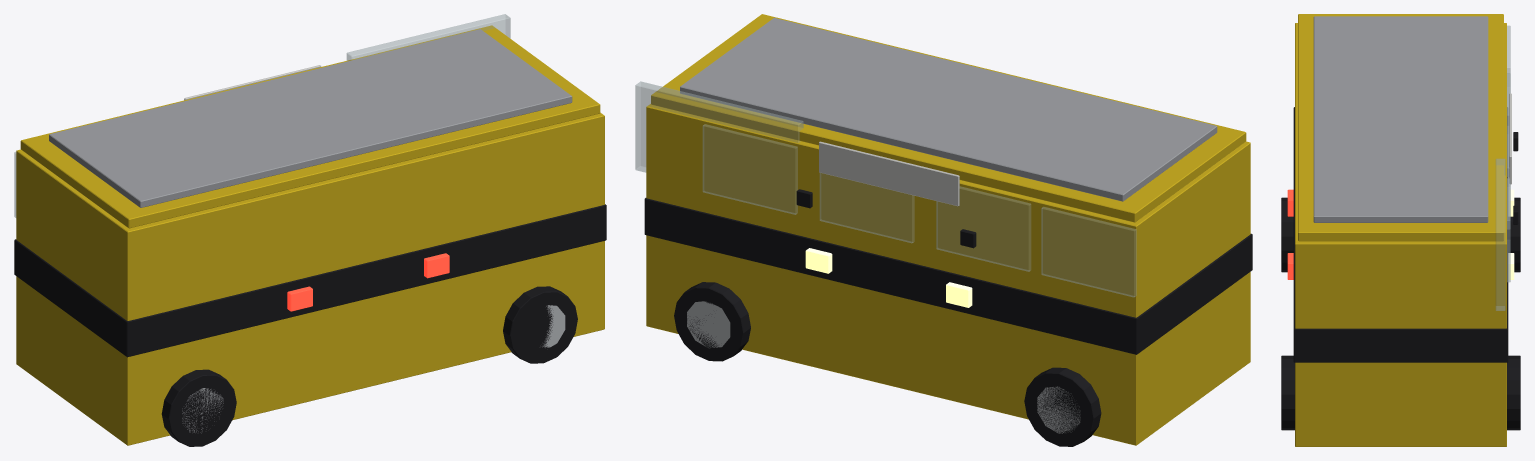
Rendered from VHC_Danfo_STR_v001.glb.
3 renders of one model, left to right at view 1: azimuth 30°, elevation 25°; view 2: azimuth 150°, elevation 25°; view 3: azimuth 270°, elevation 25°, orthographic. The views are drawn at different scales.
Parts seen in each view (by area): view 1: VHC_Danfo_STR_v001; view 2: VHC_Danfo_STR_v001; view 3: VHC_Danfo_STR_v001.
Part boxes in pixels (left/top/right/bottom): VHC_Danfo_STR_v001: left=14, top=14, right=606, bottom=446; VHC_Danfo_STR_v001: left=635, top=14, right=1252, bottom=446; VHC_Danfo_STR_v001: left=1281, top=14, right=1520, bottom=446.
Size of the model in its own units: 4.31 by 2.05 by 1.92.
